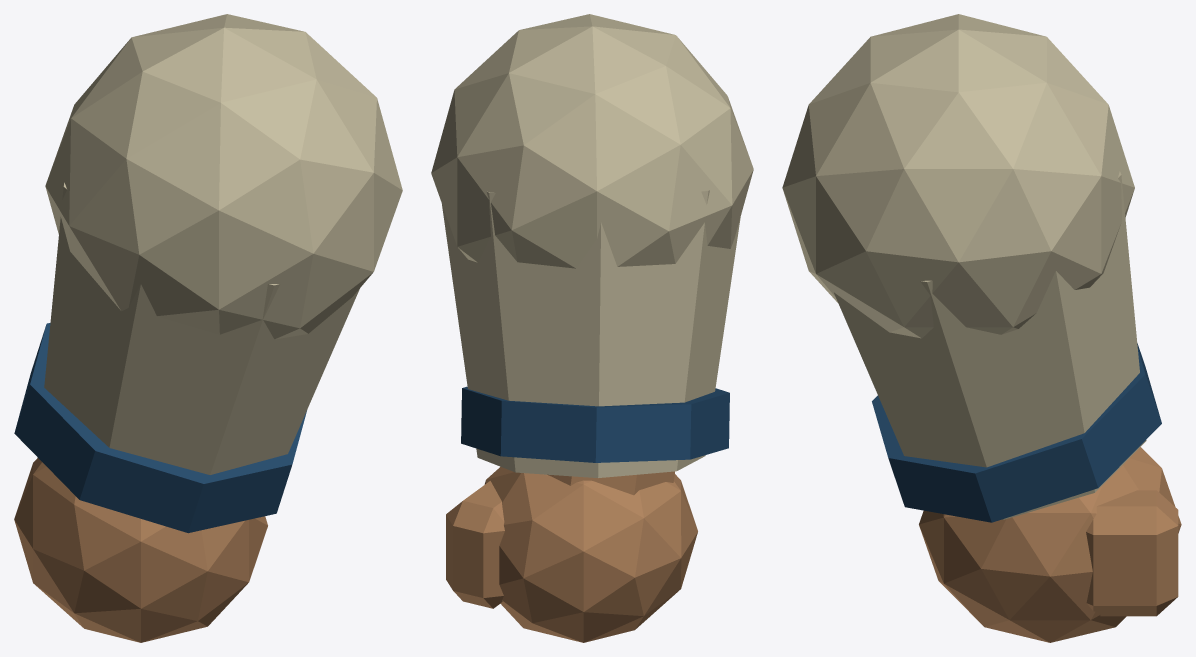
Rendered from ForearmLeft.glb.
The picture shows the model from 3 angles, left to right: view 1: azimuth 30°, elevation 25°; view 2: azimuth 150°, elevation 25°; view 3: azimuth 270°, elevation 25°; orthographic projection. The views are drawn at different scales.
Visible parts, largest first — view 1: Sculpture; view 2: Sculpture; view 3: Sculpture.
Part boxes in pixels (x1,y1,x2,y2): Sculpture: (14, 14, 402, 642); Sculpture: (431, 14, 753, 642); Sculpture: (782, 14, 1181, 642).
Size of the model in its own units: 0.2148 by 0.411 by 0.24.
